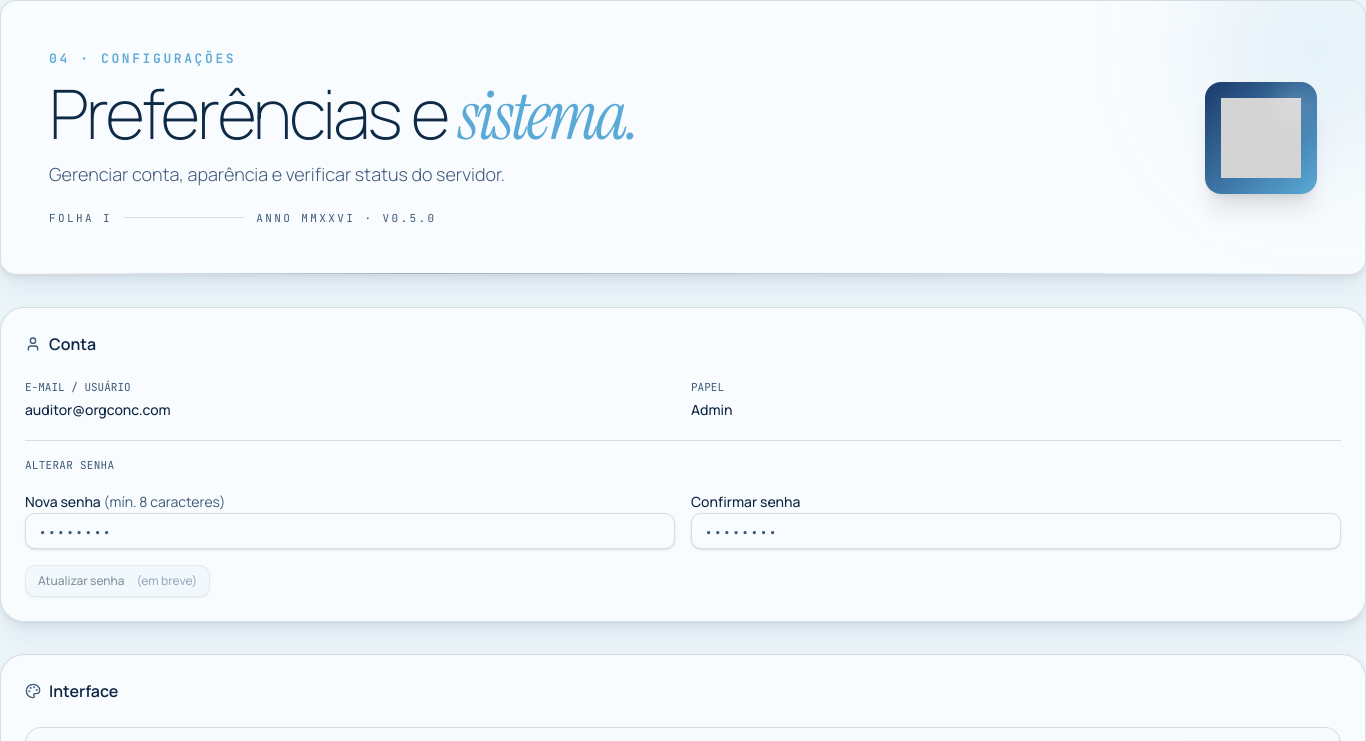
ConfiguracoesPage › habilita o botao quando as senhas coincidem e tem 8+ caracteres
The image size is (1366, 741).
Type "senhaforte1" into the password field with placeholder "••••••••" below "Nova senha" at (350, 531), box 25,513 -> 675,549
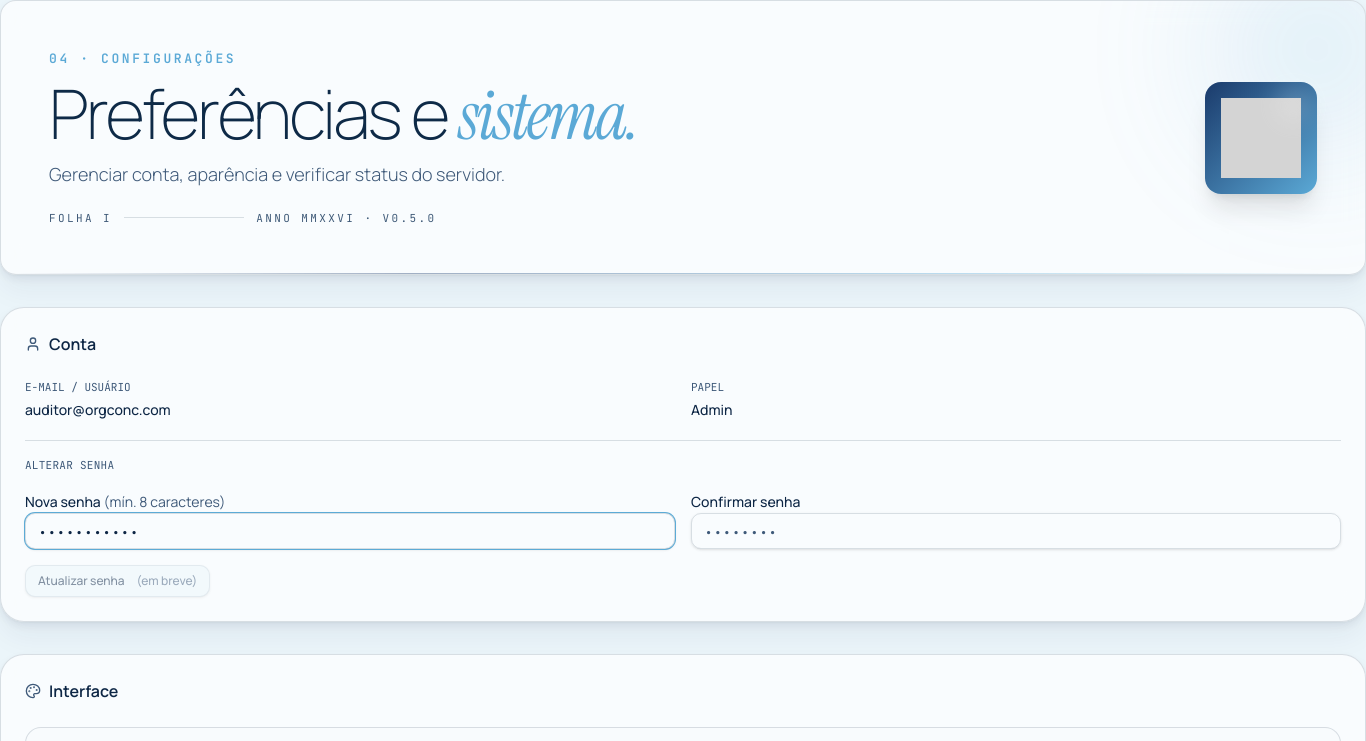
Type "senhaforte1" into the password field with placeholder "••••••••" at (1016, 531), box 691,513 -> 1341,549
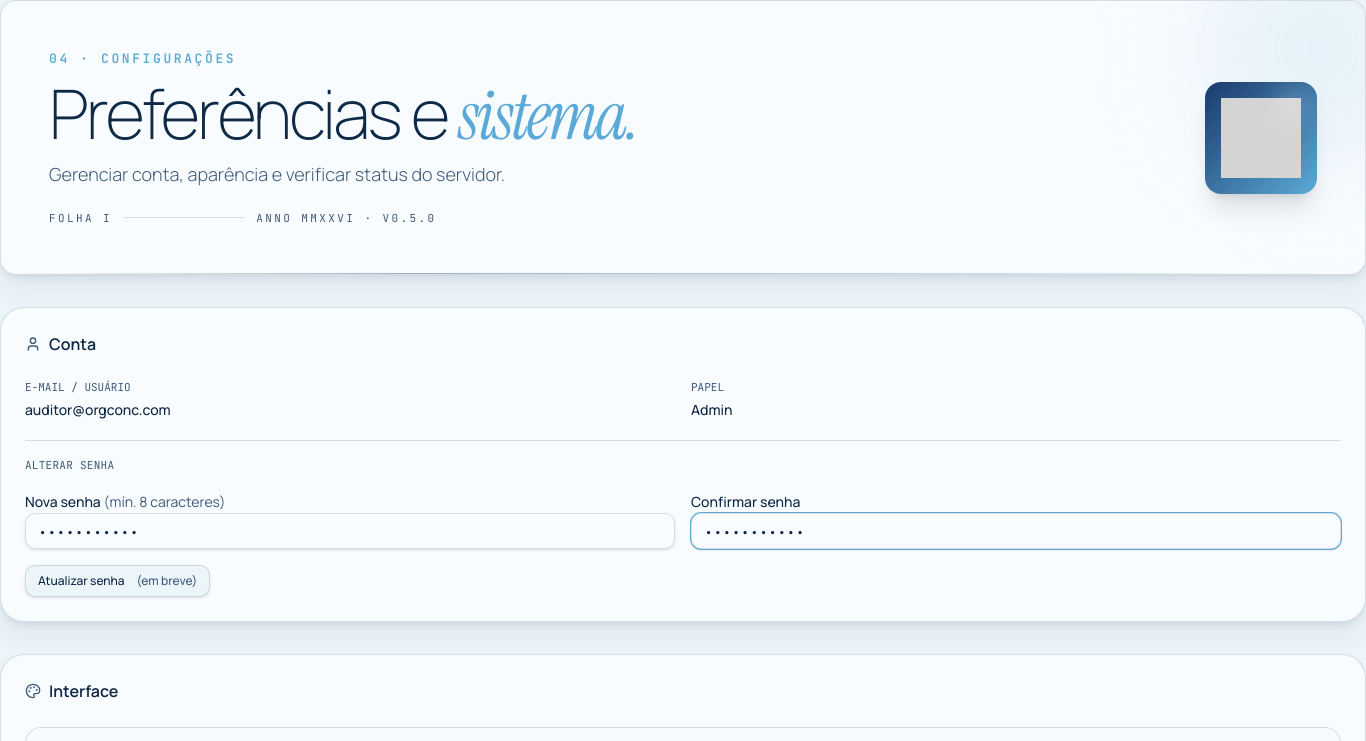
Expected: the button "Atualizar senha (em breve)" is enabled, 25,565 -> 210,597
